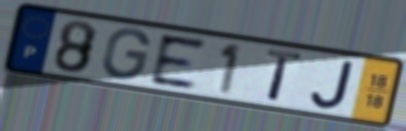1: (218, 42, 242, 96)
8: (53, 19, 99, 75)
E: (149, 32, 209, 91)
G: (99, 26, 153, 82)
J: (309, 58, 357, 111)
T: (265, 47, 305, 105)
